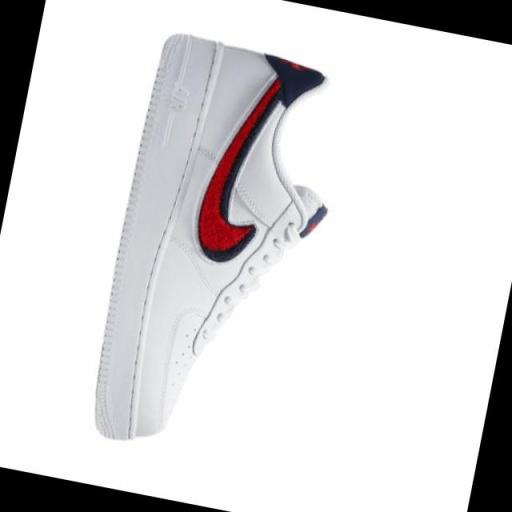Nike: (179, 61, 289, 270)
